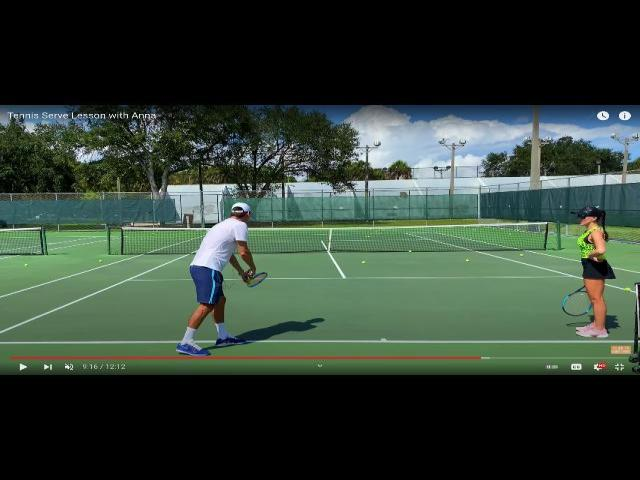tennis-ball: (624, 288, 630, 292), (465, 258, 469, 262), (519, 254, 523, 256), (24, 264, 28, 266), (409, 250, 411, 252), (99, 260, 101, 262), (362, 262, 364, 264)
